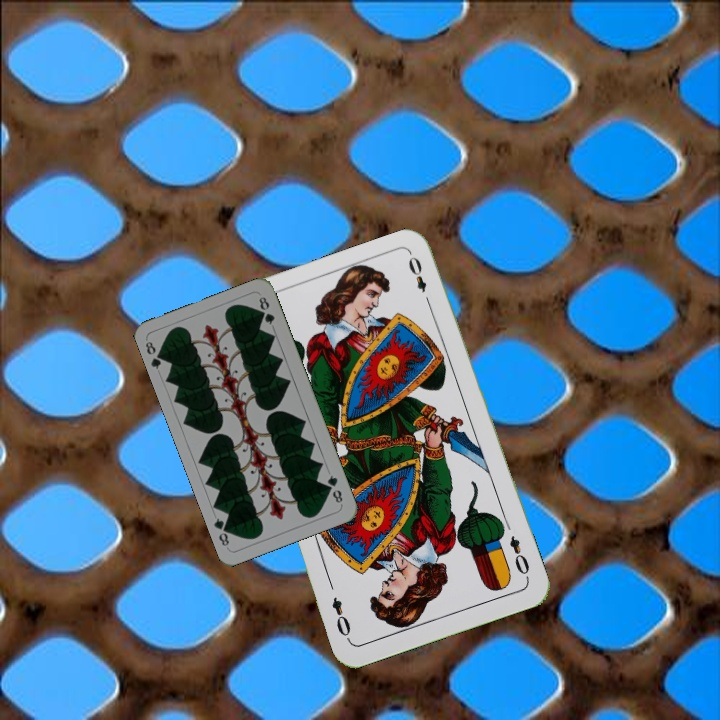EO: (505, 531, 532, 582)
G8: (141, 337, 167, 372), (323, 471, 345, 506)
